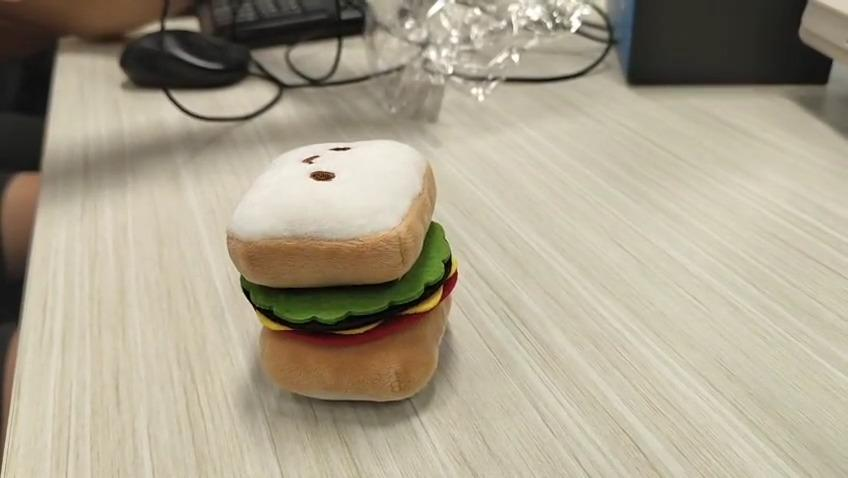objects: (225, 137, 461, 402)
